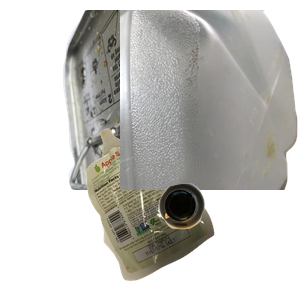glass: (156, 181, 300, 300)
metal: (60, 10, 300, 190)
plastic: (120, 10, 300, 190)
trash: (84, 126, 291, 300)
